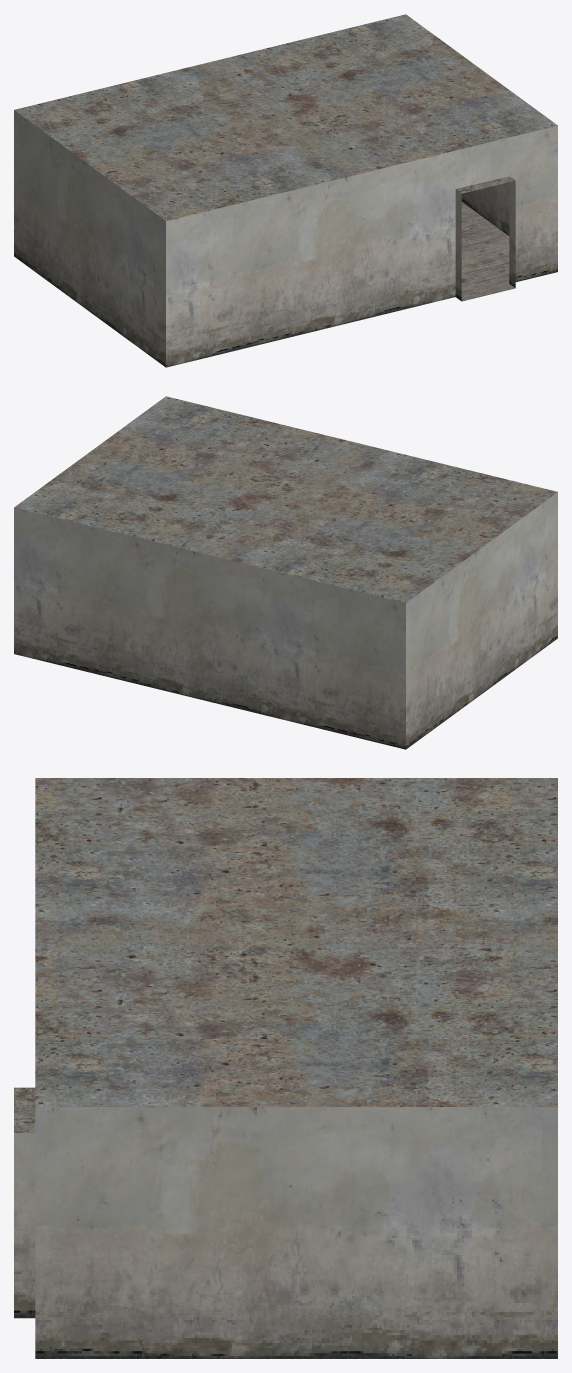
The model's file is _Room_10.FBX.
3 renders of one model, top to bottom at view 1: azimuth 30°, elevation 25°; view 2: azimuth 150°, elevation 25°; view 3: azimuth 270°, elevation 25°, orthographic. The views are drawn at different scales.
Visible parts, largest first — view 1: _Room_10; view 2: _Room_10; view 3: _Room_10.
Boxes of the visible parts, box(x1,y1,x2,y2) form: _Room_10: box(14, 14, 557, 367); _Room_10: box(14, 396, 557, 749); _Room_10: box(14, 778, 557, 1358).
Bounding box in the file's own units: 1737 × 620 × 1214.
3 materials, 3 textured.
